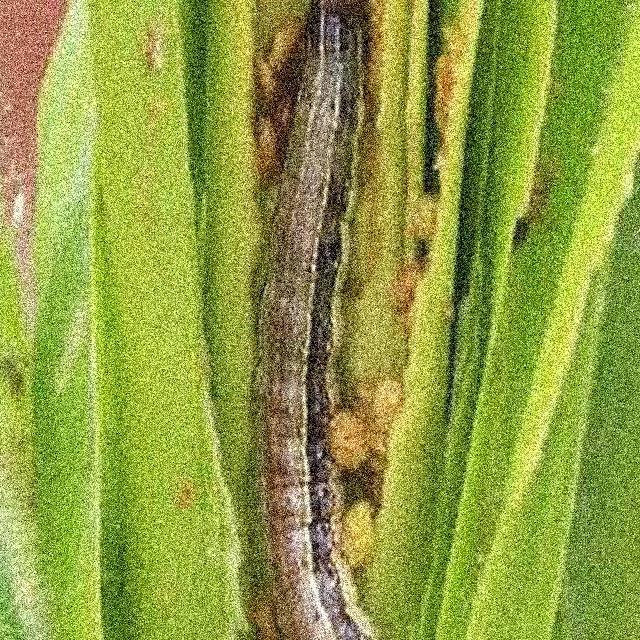worm: (245, 1, 377, 640)
